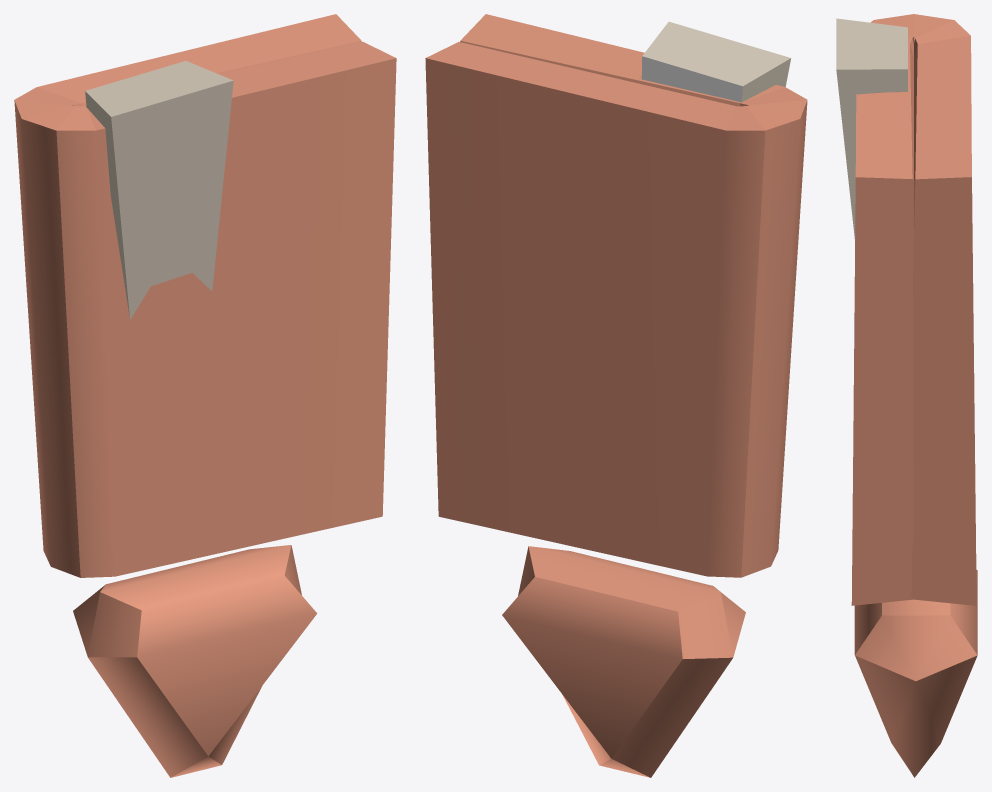
File: book06 outline.gltf
3 renders of one model, left to right at view 1: azimuth 30°, elevation 25°; view 2: azimuth 150°, elevation 25°; view 3: azimuth 270°, elevation 25°, orthographic. The views are drawn at different scales.
Visible parts, largest first — view 1: polySurface2, polySurface3, polySurface1; view 2: polySurface2, polySurface3, polySurface1; view 3: polySurface2, polySurface3, polySurface1.
Part boxes in pixels (x1,y1,x2,y2): polySurface2: [14, 14, 396, 577]; polySurface3: [73, 545, 317, 777]; polySurface1: [85, 61, 233, 319]; polySurface2: [425, 14, 807, 577]; polySurface3: [502, 546, 745, 777]; polySurface1: [641, 21, 791, 102]; polySurface2: [851, 14, 976, 605]; polySurface3: [854, 569, 977, 777]; polySurface1: [836, 18, 907, 239].
Bounding box in the file's own units: 7.9 × 15.8 × 2.91.
